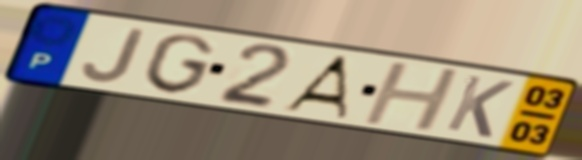2: (216, 41, 295, 112)
A: (277, 54, 353, 121)
G: (139, 32, 218, 97)
H: (359, 61, 465, 134)
J: (80, 26, 150, 85)
K: (441, 72, 518, 141)
